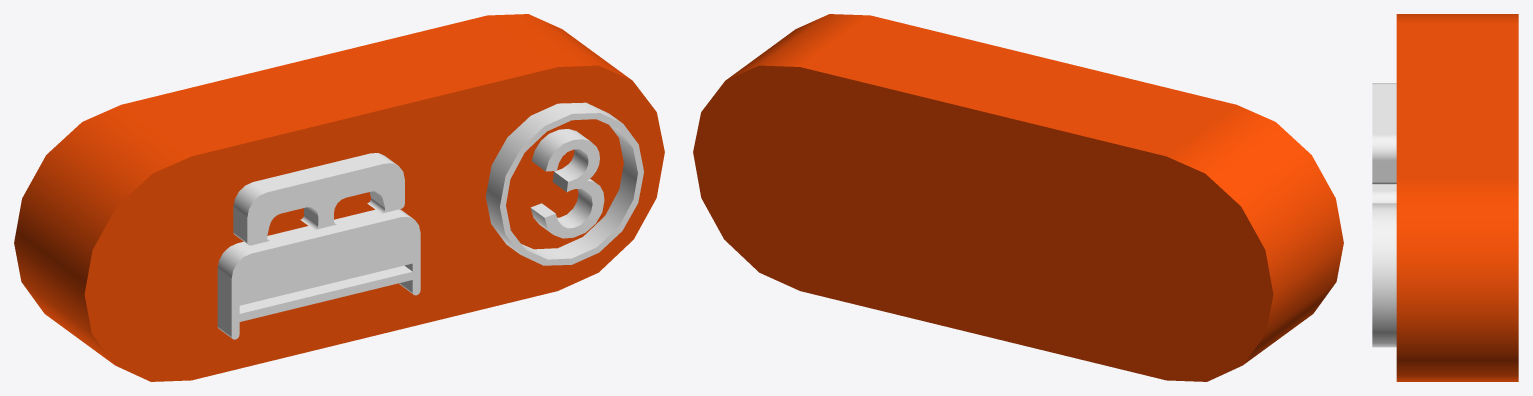
The model's file is Bed_3.fbx.
3 views of the same model, side by side, from view 1: azimuth 30°, elevation 25°; view 2: azimuth 150°, elevation 25°; view 3: azimuth 270°, elevation 25° (orthographic). The views are drawn at different scales.
Parts seen in each view (by area): view 1: Orange, Object_5, Object_6, Object_1, Object_4; view 2: Orange; view 3: Orange, Object_1, Object_6, Object_5.
Boxes of the visible parts, x1,y1,x2,y2 form: Orange: (14,14,664,381); Object_5: (217,209,420,339); Object_6: (233,153,404,245); Object_1: (485,102,643,265); Object_4: (530,129,604,238); Orange: (693,14,1343,381); Orange: (1396,14,1518,381); Object_1: (1372,203,1396,347); Object_6: (1372,83,1396,184); Object_5: (1372,184,1396,203).
Bounding box in the file's own units: 4.75 × 1.2 × 1.75.
